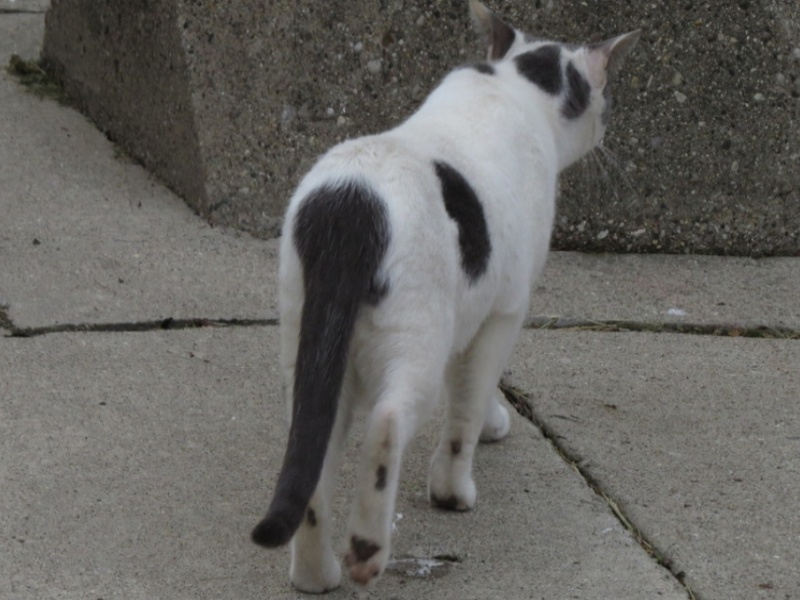cat: (253, 5, 640, 598)
